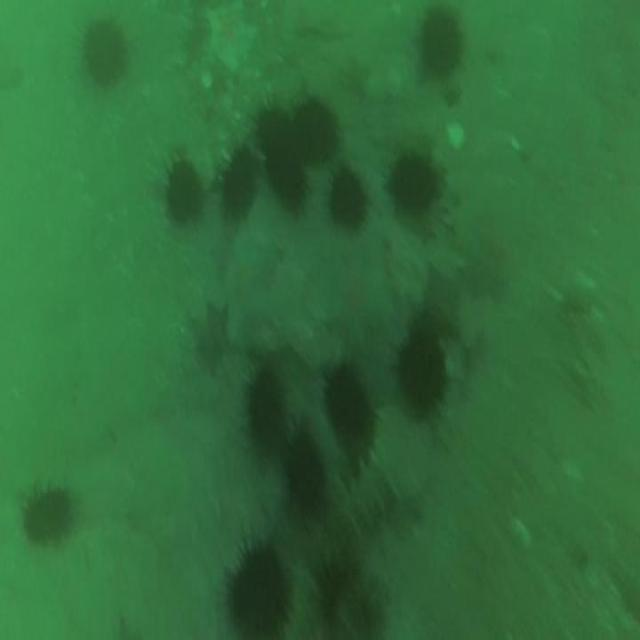echinus: (212, 526, 300, 640), (308, 535, 391, 640), (384, 321, 455, 439), (317, 360, 383, 472), (276, 408, 332, 524), (380, 142, 449, 226), (150, 142, 212, 229), (412, 2, 469, 93), (212, 136, 263, 229), (74, 13, 132, 93), (247, 357, 288, 468), (18, 476, 76, 554), (261, 142, 315, 223), (291, 87, 344, 169), (322, 155, 372, 235), (244, 95, 296, 156)
starfish: (181, 284, 239, 381), (326, 280, 384, 371), (200, 5, 260, 80), (417, 262, 467, 342), (460, 228, 510, 306)
